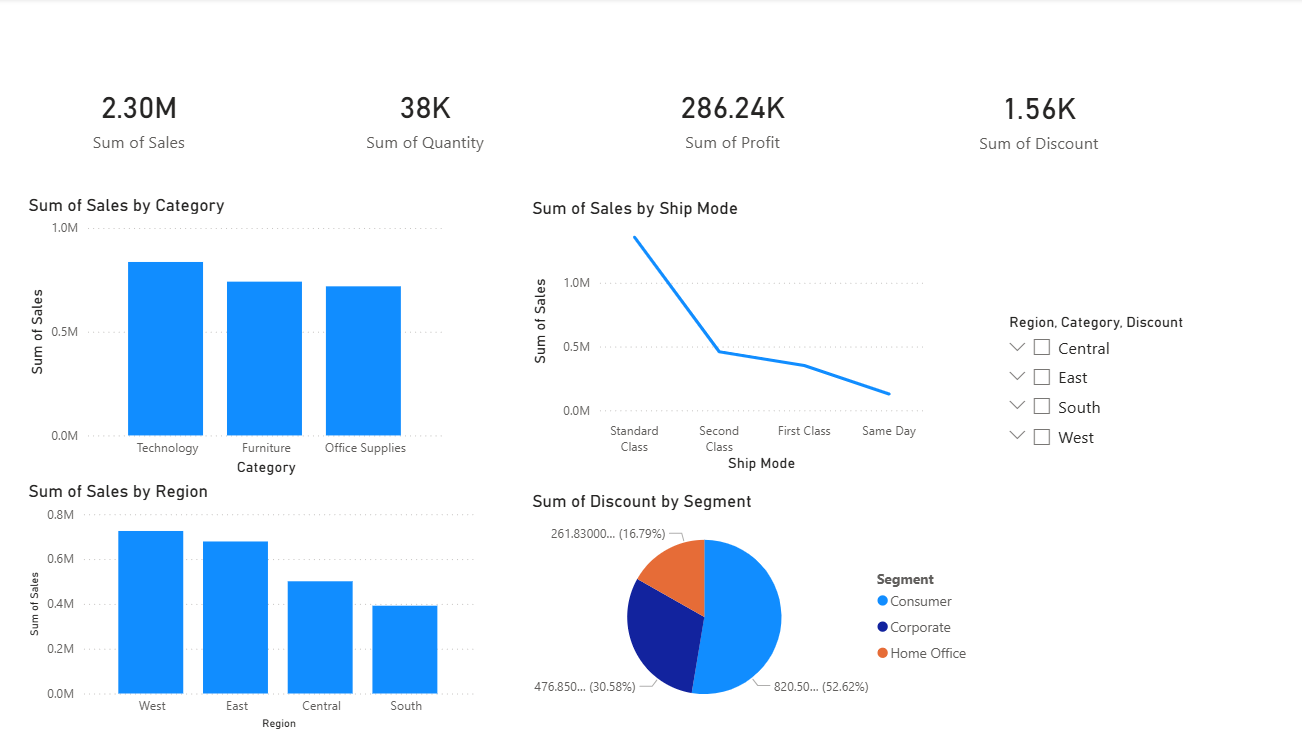

The page's visual inventory and layout, read from the dashboard file:
{"tool":"powerbi","page":{"name":"Page 1","canvas":[1280,720],"ordinal":0},"visuals":[{"type":"card","fields":{"Values":["Sum(cleaned_sales.Sales)"]},"box":[0,0,279.9,231.9],"z":0},{"type":"card","fields":{"Values":["Sum(cleaned_sales.Profit)"]},"box":[580.4,0,279.9,231.9],"z":1},{"type":"card","fields":{"Values":["Sum(cleaned_sales.Discount)"]},"box":[881,41.2,279.9,150.9],"z":2},{"type":"card","fields":{"Values":["Sum(cleaned_sales.Quantity)"]},"box":[279.9,8.2,279.9,215.4],"z":3},{"type":"columnChart","fields":{"Y":["Sum(cleaned_sales.Sales)"],"Category":["cleaned_sales.Category"]},"box":[27.4,192.1,417.2,279.9],"z":4},{"type":"columnChart","fields":{"Y":["Sum(cleaned_sales.Sales)"],"Category":["cleaned_sales.Region"]},"box":[27.4,472,446,248.4],"z":5},{"type":"lineChart","fields":{"Y":["Sum(cleaned_sales.Sales)"],"Category":["cleaned_sales.Ship Mode"]},"box":[519.7,195.7,397.4,272.7],"z":6},{"type":"pieChart","fields":{"Category":["cleaned_sales.Segment"],"Y":["Sum(cleaned_sales.Discount)"]},"box":[519.7,481.8,443.9,228.7],"z":7},{"type":"slicer","fields":{"Values":["cleaned_sales.Region","cleaned_sales.Category","cleaned_sales.Discount"]},"box":[978.3,303.3,280,280],"z":8}]}

Visuals, with their boxes in screenshot pixels (x1, y1, x2, y2), scaled from the page's 1280x720 canvas onto the 1302x732 screenshot:
card - Sum(cleaned_sales.Sales): <bbox>0, 0, 285, 236</bbox>
card - Sum(cleaned_sales.Profit): <bbox>590, 0, 875, 236</bbox>
card - Sum(cleaned_sales.Discount): <bbox>896, 42, 1181, 195</bbox>
card - Sum(cleaned_sales.Quantity): <bbox>285, 8, 569, 227</bbox>
columnChart - Sum(cleaned_sales.Sales) x cleaned_sales.Category: <bbox>28, 195, 452, 480</bbox>
columnChart - Sum(cleaned_sales.Sales) x cleaned_sales.Region: <bbox>28, 480, 482, 731</bbox>
lineChart - Sum(cleaned_sales.Sales) x cleaned_sales.Ship Mode: <bbox>529, 199, 933, 476</bbox>
pieChart - cleaned_sales.Segment x Sum(cleaned_sales.Discount): <bbox>529, 490, 980, 722</bbox>
slicer - cleaned_sales.Region x cleaned_sales.Category: <bbox>995, 308, 1280, 593</bbox>
